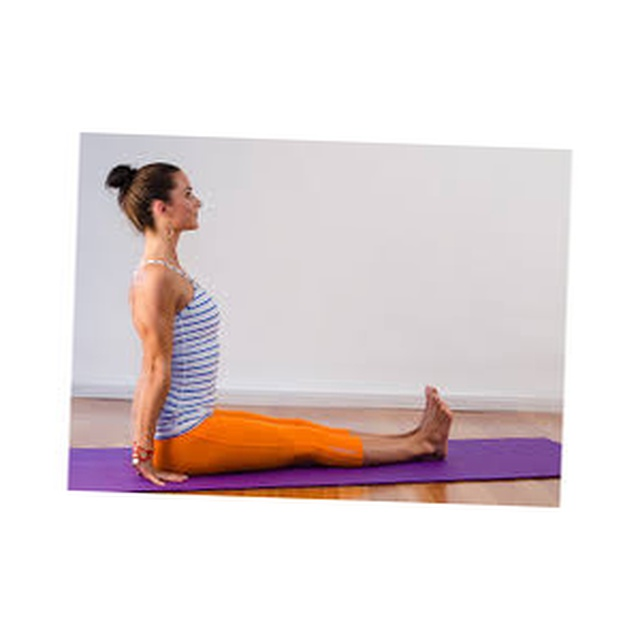Staff_Pose: (103, 163, 455, 488)
